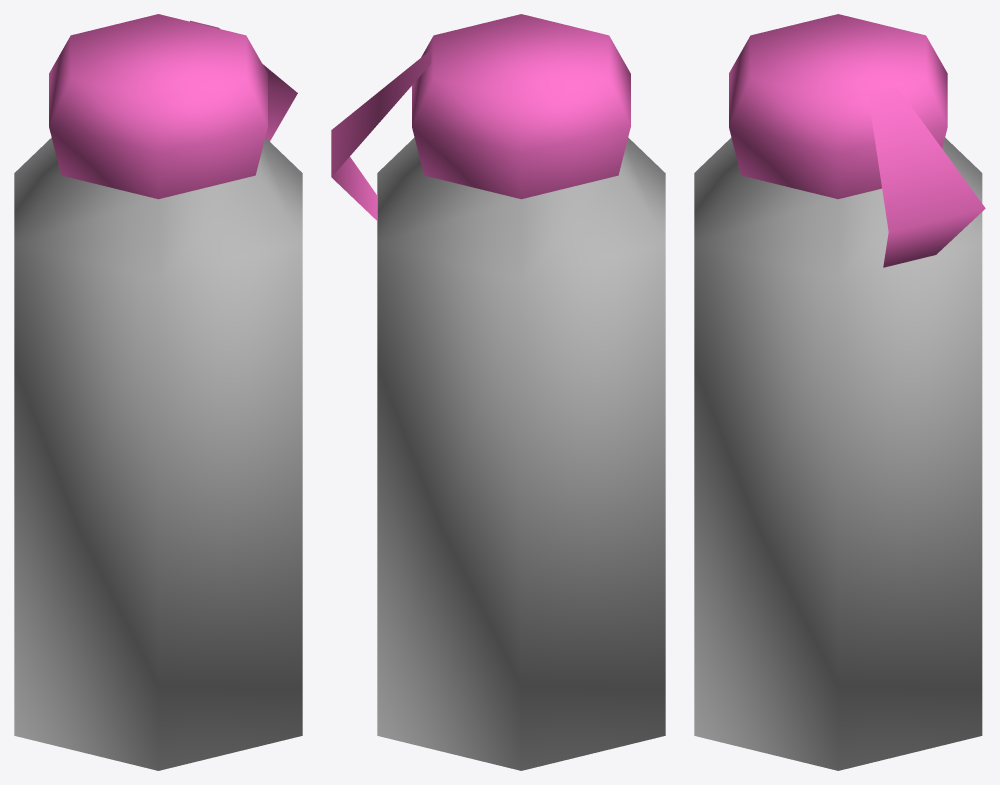
The model's file is Bottle_D.FBX.
The picture shows the model from 3 angles, left to right: view 1: azimuth 30°, elevation 25°; view 2: azimuth 150°, elevation 25°; view 3: azimuth 270°, elevation 25°; orthographic projection.
Visible parts, largest first — view 1: Bottle; view 2: Bottle; view 3: Bottle.
Part boxes in pixels (x1=…): Bottle: x1=14, y1=14, x2=302, y2=770; Bottle: x1=331, y1=14, x2=665, y2=770; Bottle: x1=694, y1=14, x2=985, y2=770.
Size of the model in its own units: 38.23 by 76.16 by 31.27.
